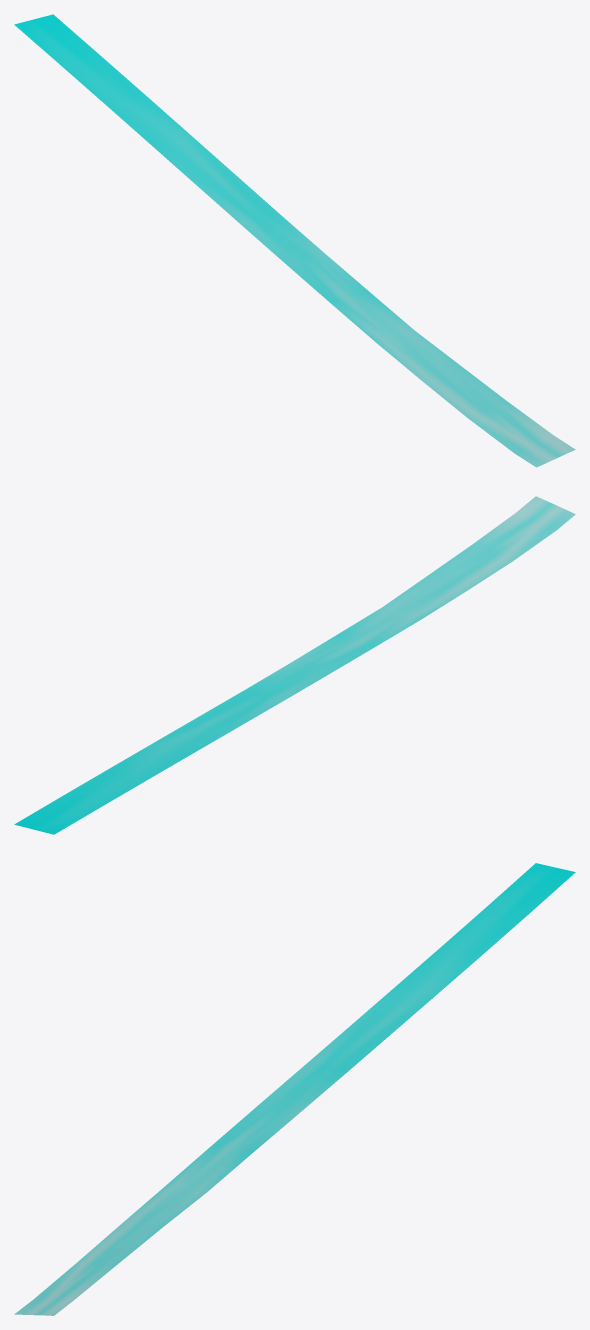
3 views of the same model, one above another, from view 1: azimuth 30°, elevation 25°; view 2: azimuth 150°, elevation 25°; view 3: azimuth 330°, elevation 25° (orthographic).
Visible parts, largest first — view 1: SpaceCenter_Long3_GenerateRoad_Sand_TireTracks_Width_Mesh_x9; view 2: SpaceCenter_Long3_GenerateRoad_Sand_TireTracks_Width_Mesh_x9; view 3: SpaceCenter_Long3_GenerateRoad_Sand_TireTracks_Width_Mesh_x9.
Boxes of the visible parts, x1,y1,x2,y2 form: SpaceCenter_Long3_GenerateRoad_Sand_TireTracks_Width_Mesh_x9: (14,14,575,467); SpaceCenter_Long3_GenerateRoad_Sand_TireTracks_Width_Mesh_x9: (14,496,575,834); SpaceCenter_Long3_GenerateRoad_Sand_TireTracks_Width_Mesh_x9: (14,863,575,1315).
Size of the model in its own units: 820 by 40.84 by 57.27.
